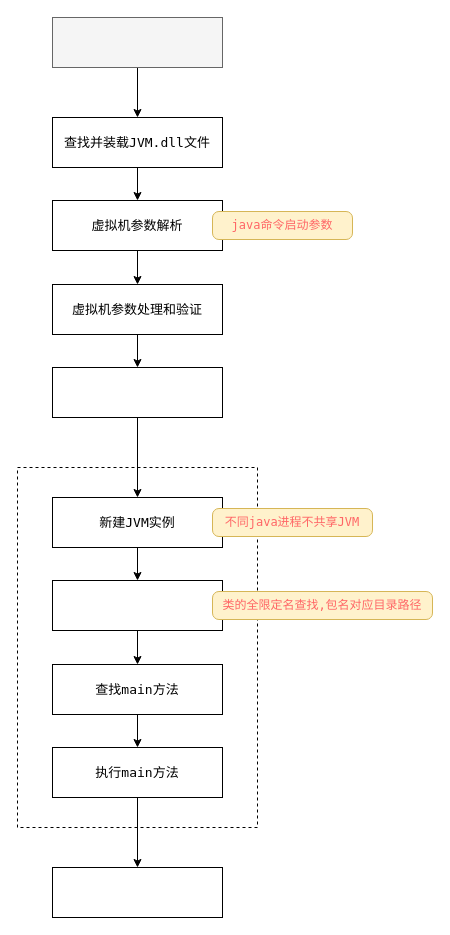
This 450x935 diagram has some shape labels left out. Here are the shapes that lost their labels. From the top down, the centre of each, then its label:
At point (137, 42): "java xxx.class".
At point (137, 392): "设置线程栈大小".
At point (137, 605): "加载主类class文件".
At point (137, 892): "结束".
